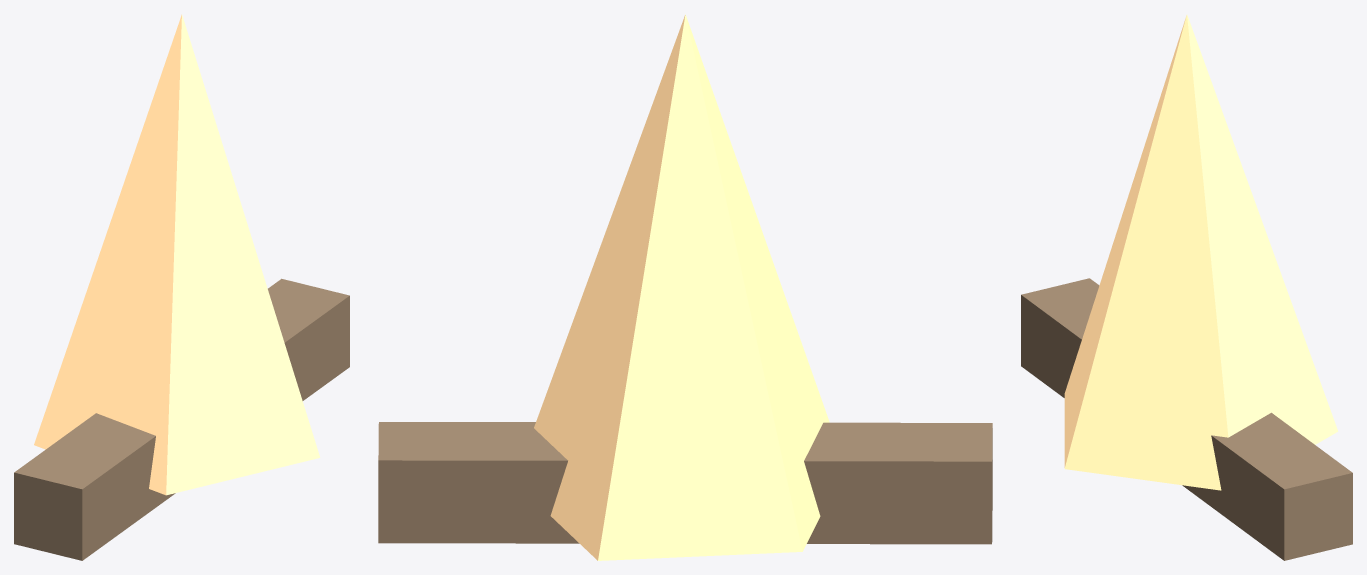
The model's file is campfire.glb.
3 views of the same model, side by side, from view 1: azimuth 30°, elevation 25°; view 2: azimuth 150°, elevation 25°; view 3: azimuth 270°, elevation 25° (orthographic). The views are drawn at different scales.
Parts seen in each view (by area): view 1: campfire_MAT_fire, campfire_MAT_wood; view 2: campfire_MAT_fire, campfire_MAT_wood; view 3: campfire_MAT_fire, campfire_MAT_wood.
Part boxes in pixels (x1,y1,x2,y2): campfire_MAT_fire: [34, 14, 320, 495]; campfire_MAT_wood: [14, 278, 349, 560]; campfire_MAT_fire: [534, 14, 829, 560]; campfire_MAT_wood: [378, 422, 992, 544]; campfire_MAT_fire: [1064, 14, 1338, 490]; campfire_MAT_wood: [1021, 278, 1352, 560].
Bounding box in the file's own units: 0.7595 × 0.74 × 0.5042.
